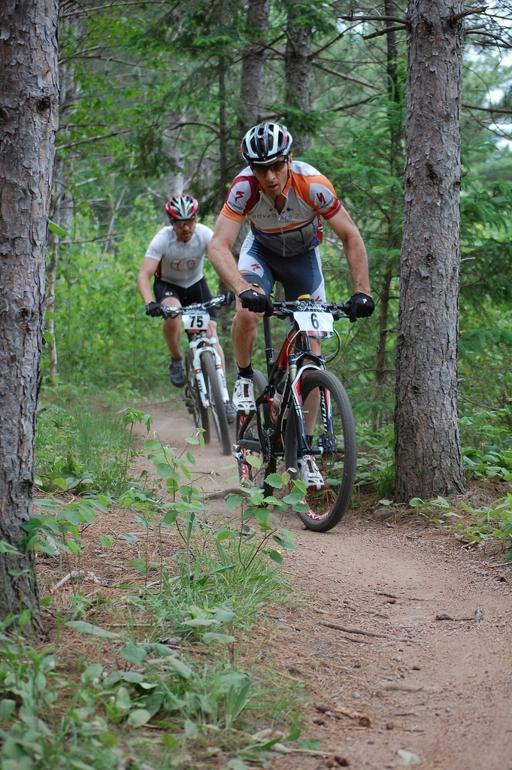non-vehicle: (233, 289, 365, 530), (144, 290, 238, 459)
